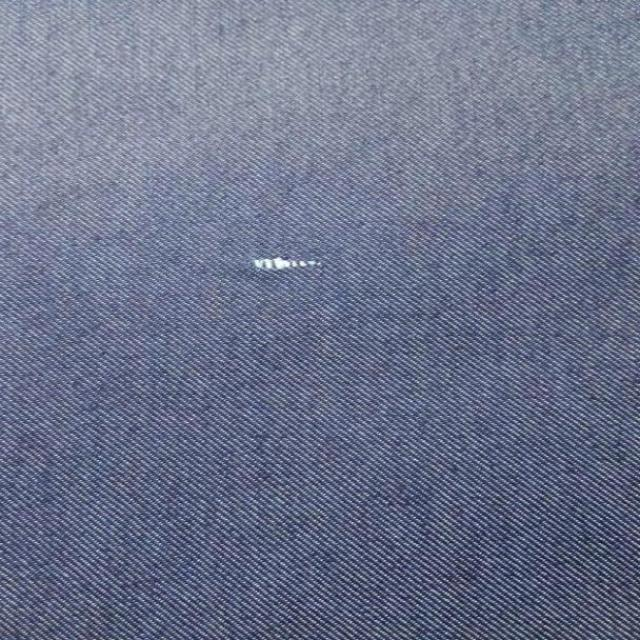Knot: (253, 257, 321, 270)
